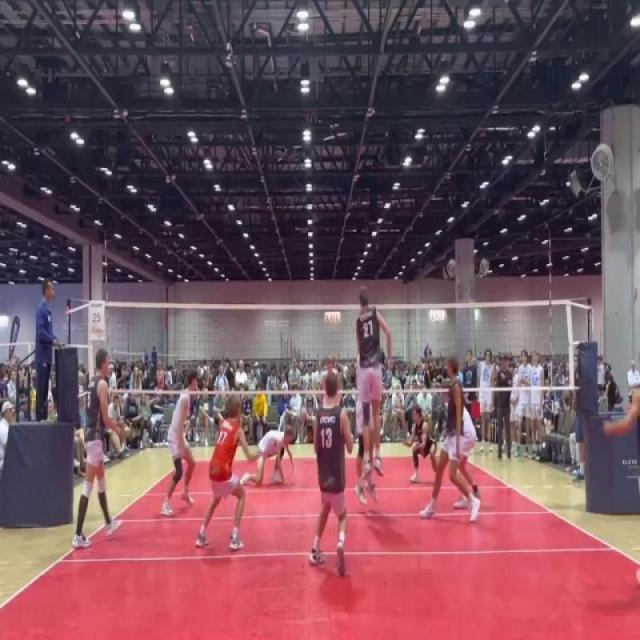volleyball: (298, 404, 308, 424)
